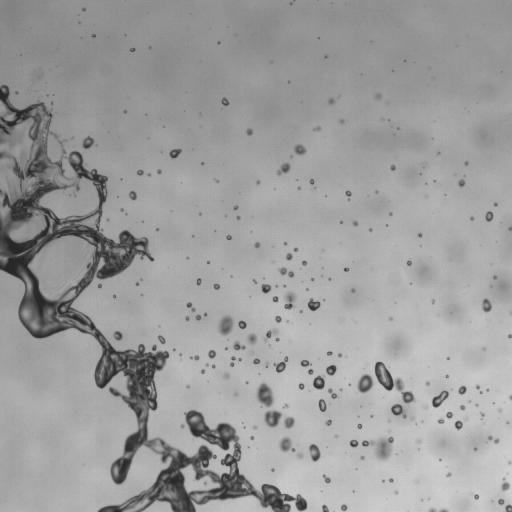droplet: (362, 436, 393, 461), (357, 374, 373, 393), (218, 315, 233, 335), (432, 390, 448, 407), (273, 356, 288, 373), (283, 291, 296, 309), (279, 437, 295, 451), (391, 404, 406, 418), (309, 444, 320, 461), (264, 328, 278, 341), (312, 375, 325, 389), (276, 163, 290, 175), (82, 136, 94, 149), (308, 298, 320, 311), (294, 144, 306, 155), (482, 298, 491, 312), (169, 148, 181, 158), (233, 340, 245, 350), (284, 416, 294, 428), (247, 333, 257, 344), (230, 356, 241, 366), (326, 365, 337, 375), (501, 478, 509, 491), (318, 399, 326, 411), (261, 284, 271, 293), (186, 302, 195, 311), (113, 331, 122, 340), (485, 211, 493, 221), (454, 420, 462, 430), (458, 385, 466, 394), (349, 439, 358, 447), (221, 97, 229, 105), (238, 321, 246, 329), (129, 191, 136, 200), (158, 335, 165, 343), (208, 350, 215, 358), (323, 475, 330, 483), (458, 179, 465, 186), (322, 504, 329, 511), (504, 504, 511, 511), (246, 128, 252, 135), (286, 253, 292, 260), (275, 315, 281, 322), (253, 358, 260, 364), (341, 504, 347, 511), (328, 98, 334, 104), (137, 169, 143, 175), (345, 191, 351, 197), (213, 283, 219, 289), (272, 296, 278, 302), (223, 372, 229, 378), (298, 383, 304, 389), (446, 412, 452, 418), (325, 419, 331, 425), (472, 493, 478, 499), (498, 499, 504, 505), (196, 278, 201, 285), (437, 418, 444, 423), (375, 93, 381, 98), (254, 242, 260, 247), (297, 453, 303, 458), (390, 165, 395, 170), (353, 221, 358, 226), (195, 315, 200, 320), (283, 403, 288, 408), (460, 405, 465, 410), (357, 424, 362, 429), (314, 126, 320, 130), (480, 412, 484, 418), (157, 169, 161, 174), (309, 179, 313, 184), (233, 205, 238, 209), (226, 235, 231, 239), (293, 247, 298, 251), (302, 260, 306, 265), (407, 260, 411, 265), (344, 267, 349, 271), (185, 316, 189, 321), (327, 351, 332, 355), (423, 405, 428, 409), (340, 119, 344, 123), (464, 161, 468, 165), (252, 279, 256, 283), (338, 353, 342, 357), (389, 478, 393, 482), (446, 473, 451, 476), (130, 48, 134, 51), (256, 180, 259, 184), (494, 202, 497, 206), (351, 288, 354, 292), (201, 369, 204, 373), (476, 385, 479, 389), (416, 439, 420, 442), (508, 461, 511, 465), (509, 395, 511, 400), (147, 173, 150, 176), (215, 179, 218, 182), (470, 217, 473, 220), (418, 233, 421, 236), (493, 276, 496, 279), (389, 317, 392, 320), (508, 334, 511, 337), (445, 374, 448, 377), (426, 382, 429, 385), (253, 425, 256, 428), (250, 436, 253, 439), (203, 481, 206, 484), (509, 226, 511, 230), (92, 34, 94, 37), (375, 190, 377, 193), (237, 216, 239, 219), (284, 242, 286, 245), (311, 278, 314, 280), (98, 284, 101, 286), (225, 347, 227, 350), (212, 365, 215, 367), (498, 409, 501, 411), (361, 456, 363, 459), (271, 468, 273, 471), (395, 491, 397, 494), (83, 8, 85, 10), (124, 111, 126, 113), (298, 187, 300, 189), (156, 228, 158, 230), (369, 229, 371, 231), (207, 261, 209, 263), (432, 300, 434, 302), (204, 313, 206, 315), (187, 385, 189, 387), (234, 393, 236, 395), (464, 417, 466, 419), (474, 448, 476, 450), (439, 459, 441, 461)
ligament: (0, 85, 303, 511), (374, 361, 415, 404), (256, 382, 282, 427), (300, 360, 313, 374), (279, 267, 293, 277), (328, 388, 338, 398), (488, 436, 499, 443), (428, 508, 449, 511), (190, 355, 199, 360)
